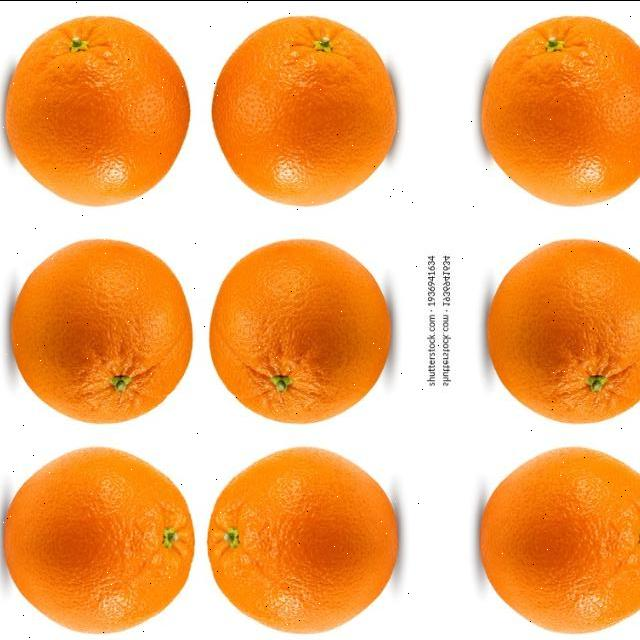Orange: (206, 446, 398, 634), (2, 446, 194, 634), (210, 15, 397, 207), (4, 15, 190, 207), (207, 238, 391, 424), (9, 238, 193, 424), (479, 15, 639, 207), (478, 446, 639, 634), (485, 238, 639, 424)
